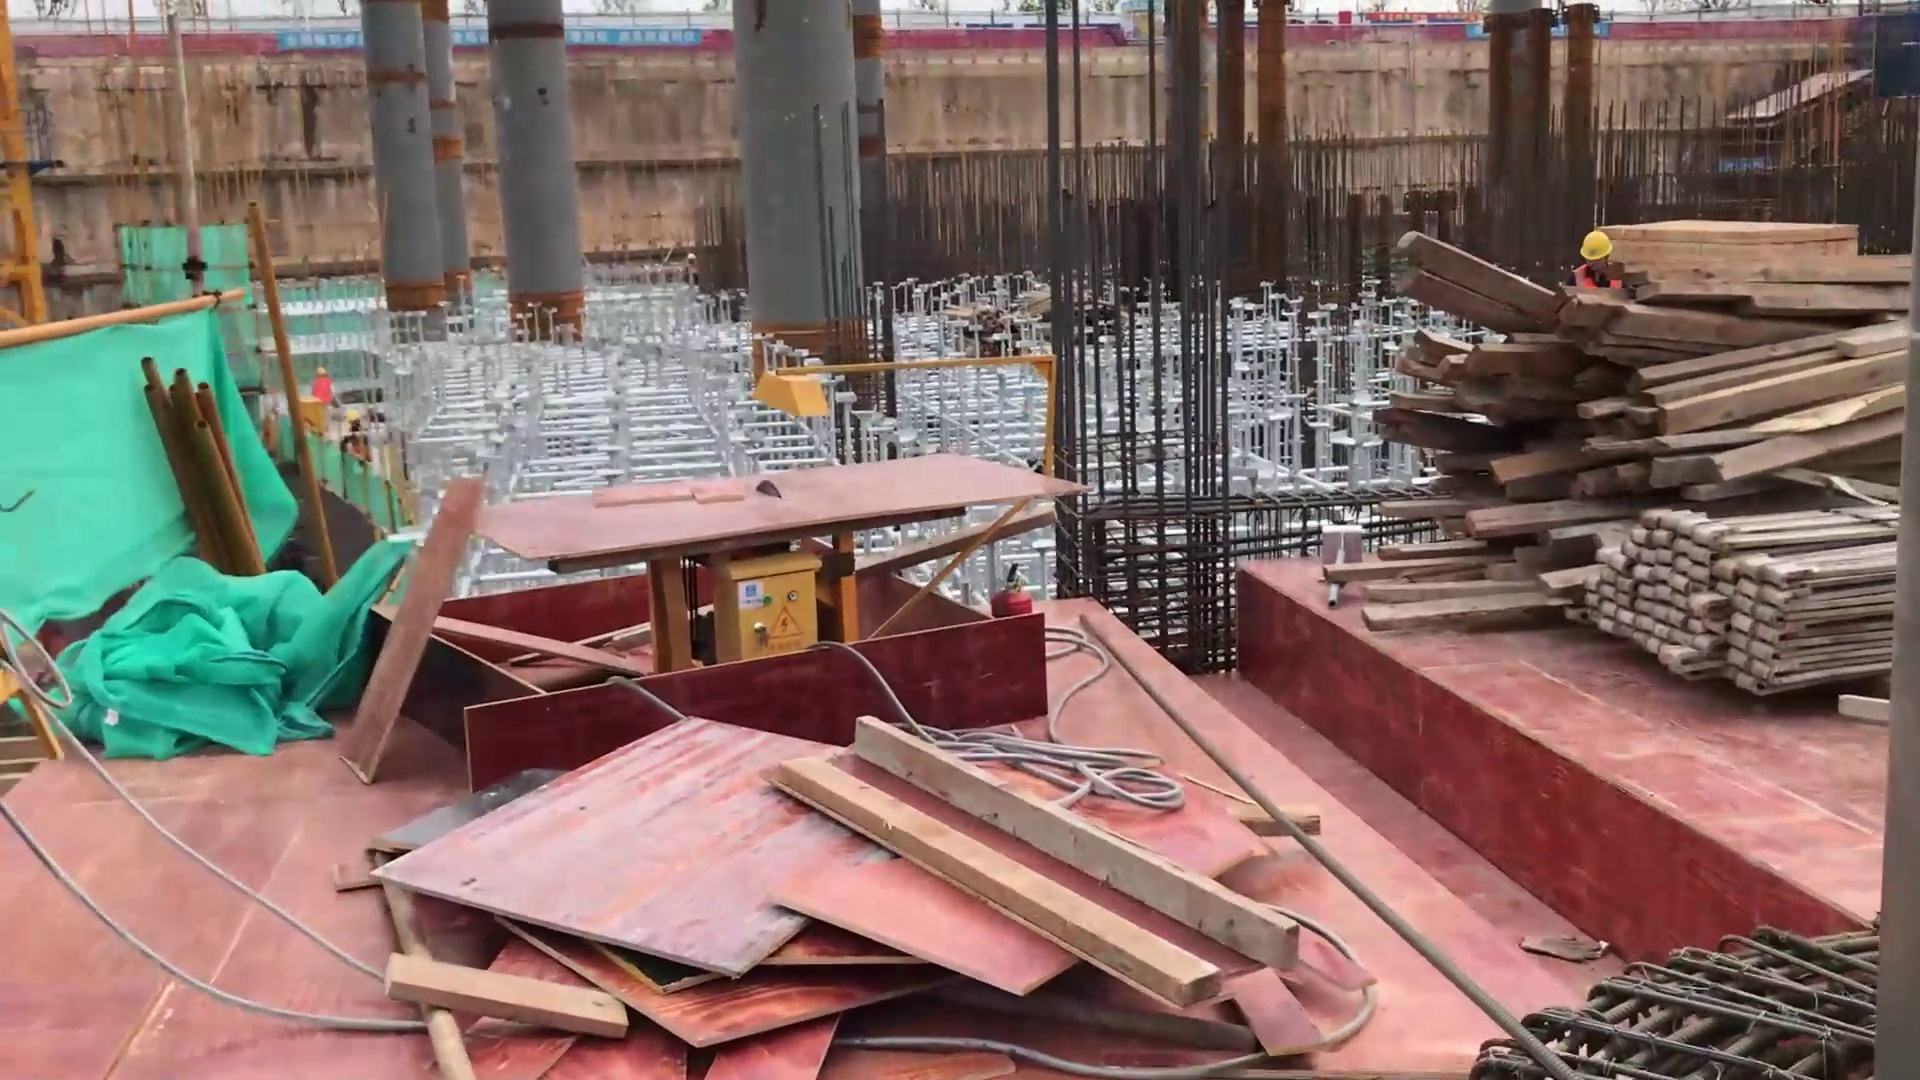cutter: (415, 400, 1073, 560)
ebox: (679, 549, 833, 662)
wood: (1394, 222, 1888, 732)
